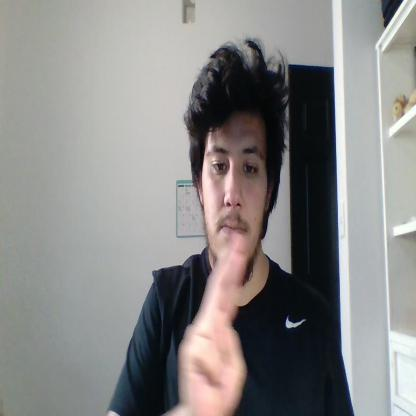R: (178, 232, 247, 416)
